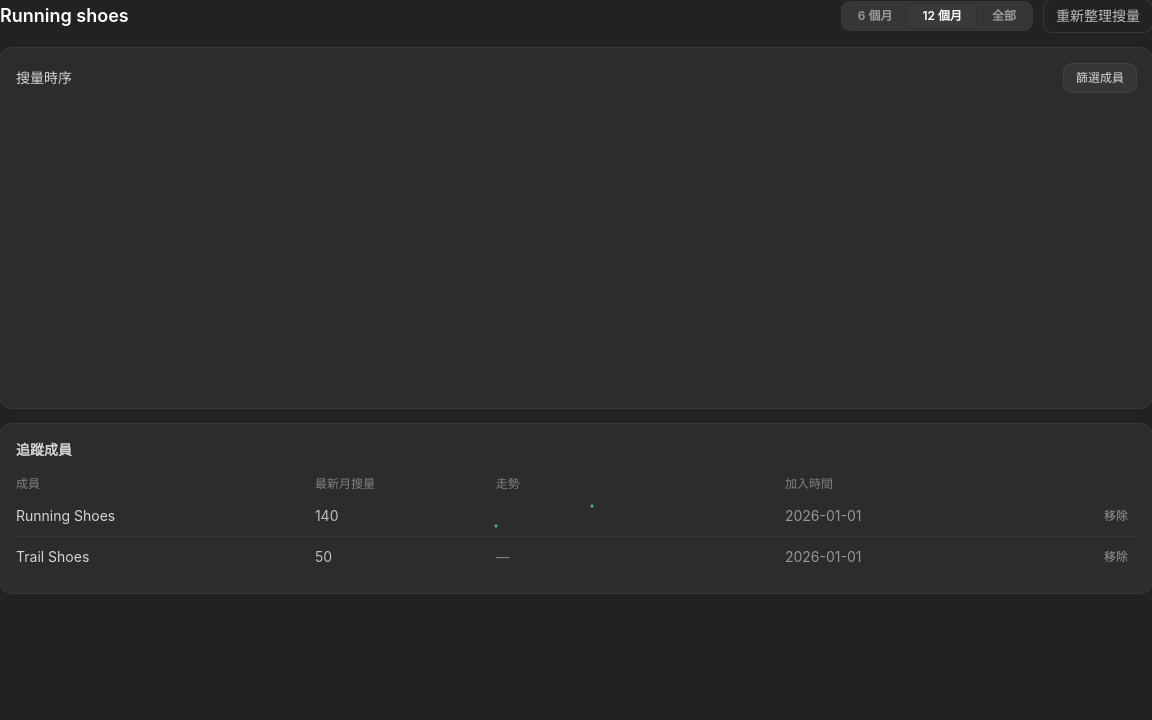
Scenario: TC-30 · member table (latest volume / sparkline / addedAt / remove) › closes the confirm dialog on cancel without removing
Click the button with aria-label "移除 Running Shoes": (1116, 516) x1=1096 y1=504 x2=1136 y2=528
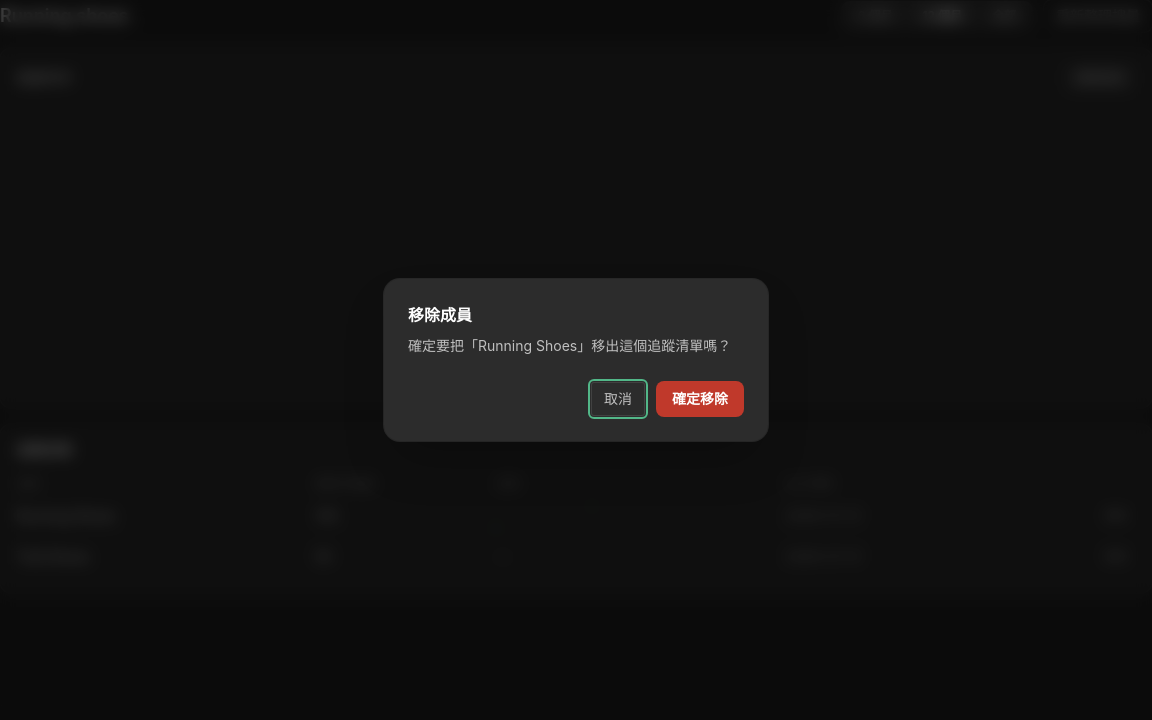
Click the button "取消": (618, 399) x1=592 y1=383 x2=644 y2=415
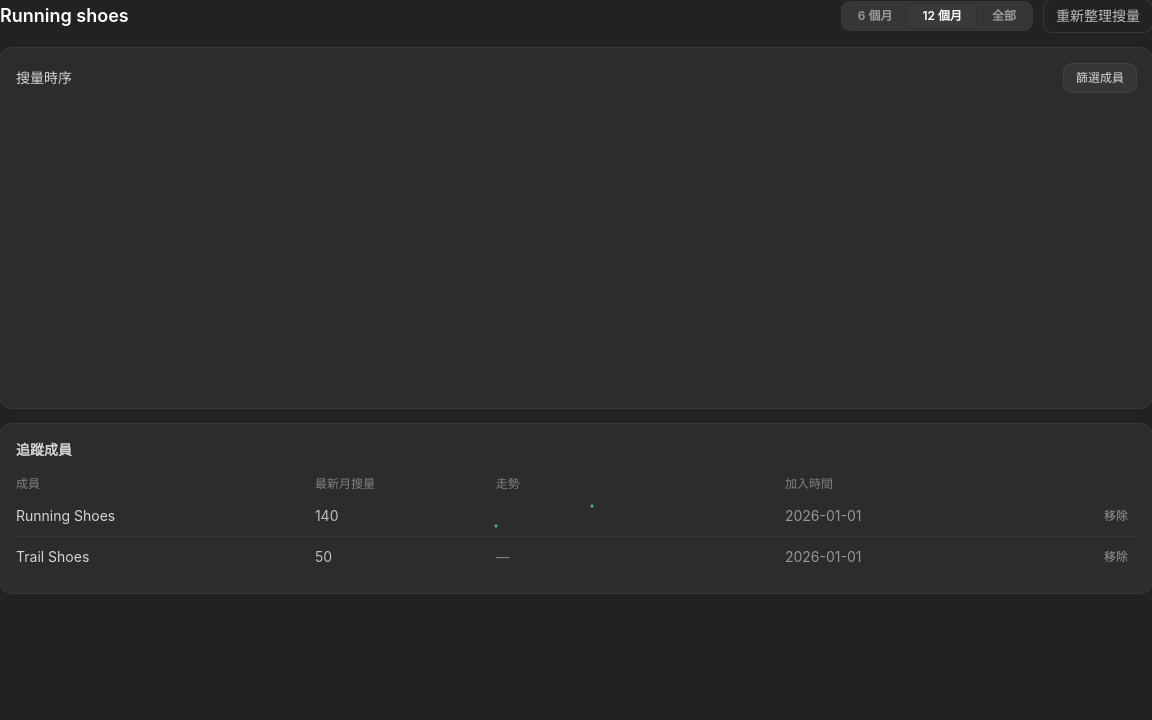
expect the text "Running Shoes" is shown: met, box x1=16 y1=496 x2=315 y2=536
expect the dialog is gone: met
